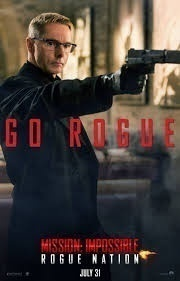pistol: (125, 46, 180, 77)
